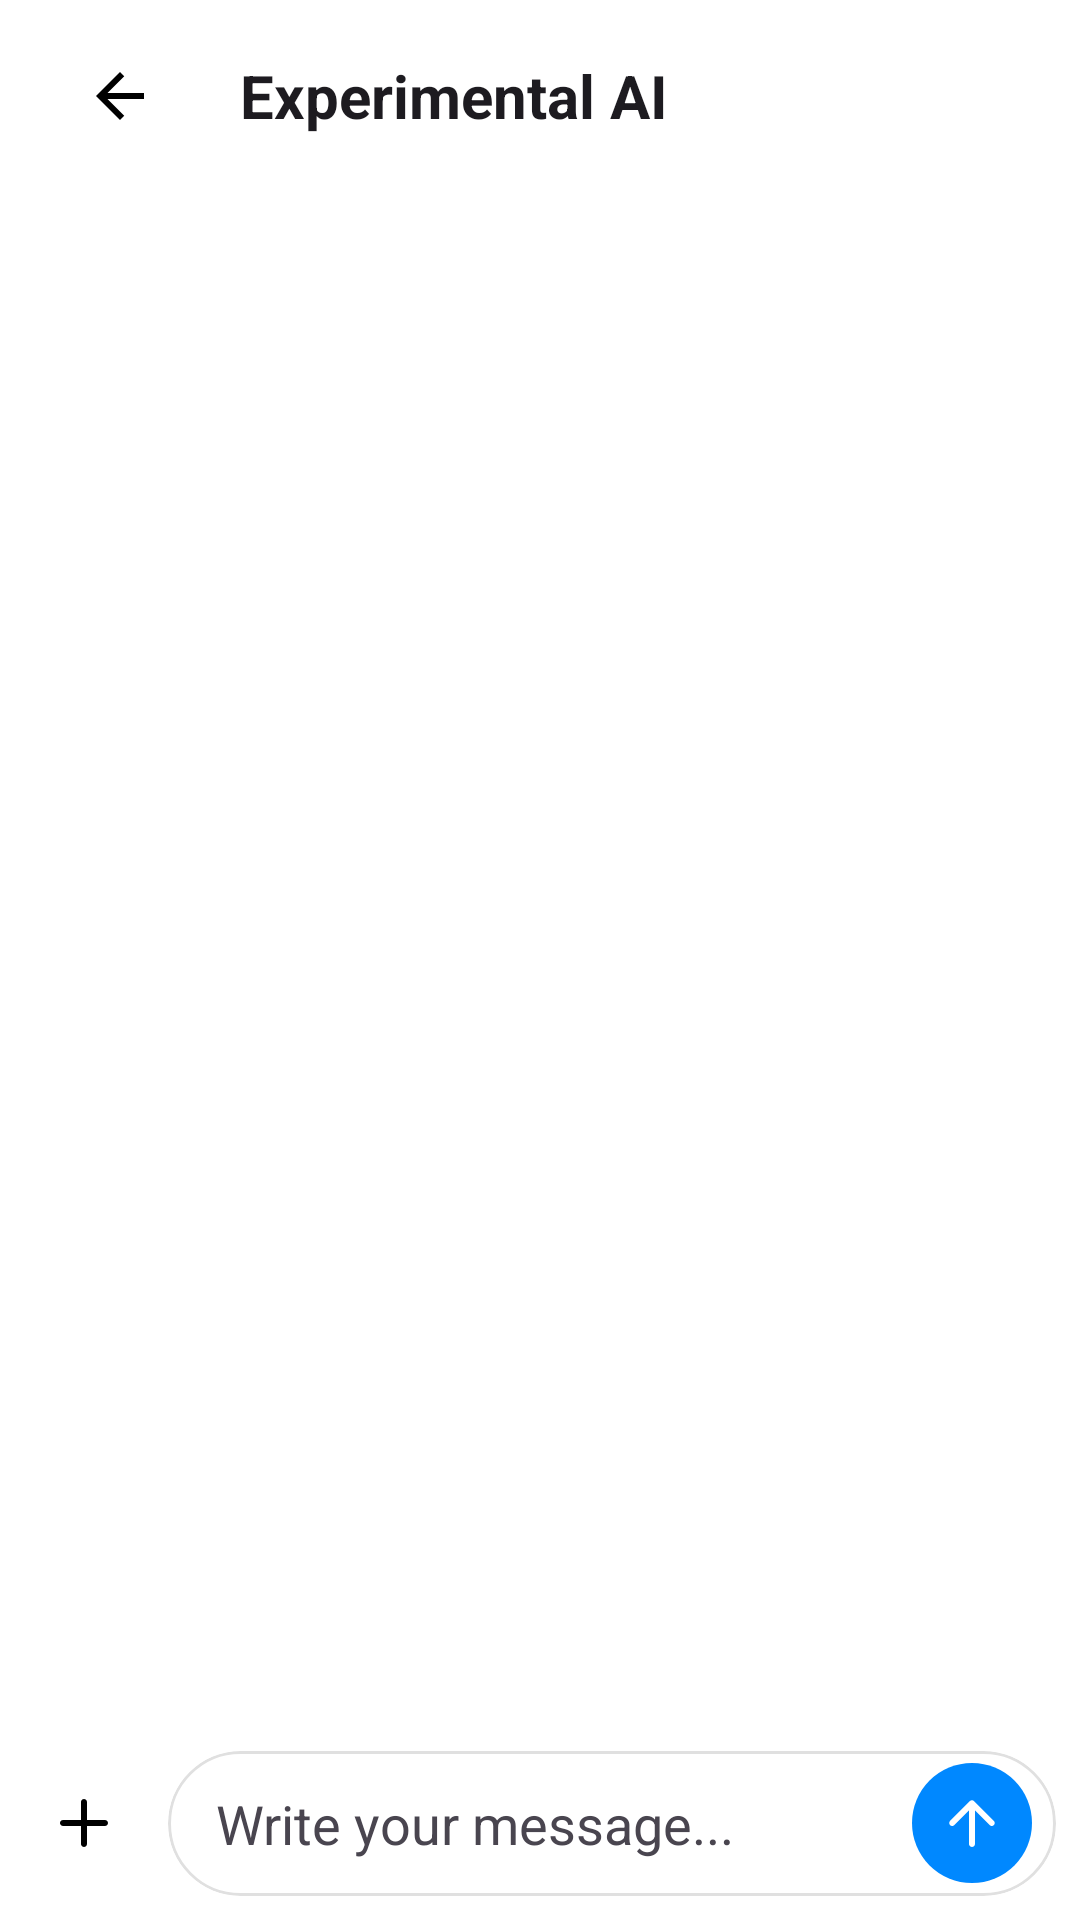

Where icons sit on this 1080 × 1920 app screen, as (x1,y1,x2,y2):
Attach file: (60,1799,108,1847)
Navigate back: (96,72,144,120)
Send message: (912,1763,1032,1883)
